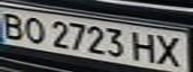2: (45, 18, 72, 50), (84, 24, 109, 56)
3: (103, 26, 130, 60)
7: (66, 20, 87, 52)
B: (0, 10, 27, 40)
H: (127, 29, 160, 64)
O: (18, 15, 48, 44)
X: (151, 33, 187, 69)
